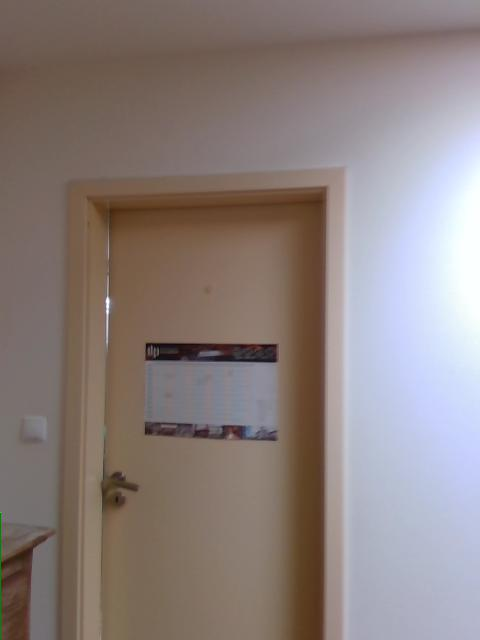door: (54, 167, 344, 639)
